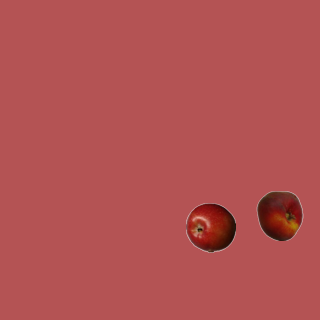Apple Braeburn: (185, 202, 235, 252)
Nectarine Flat: (254, 190, 304, 240)
